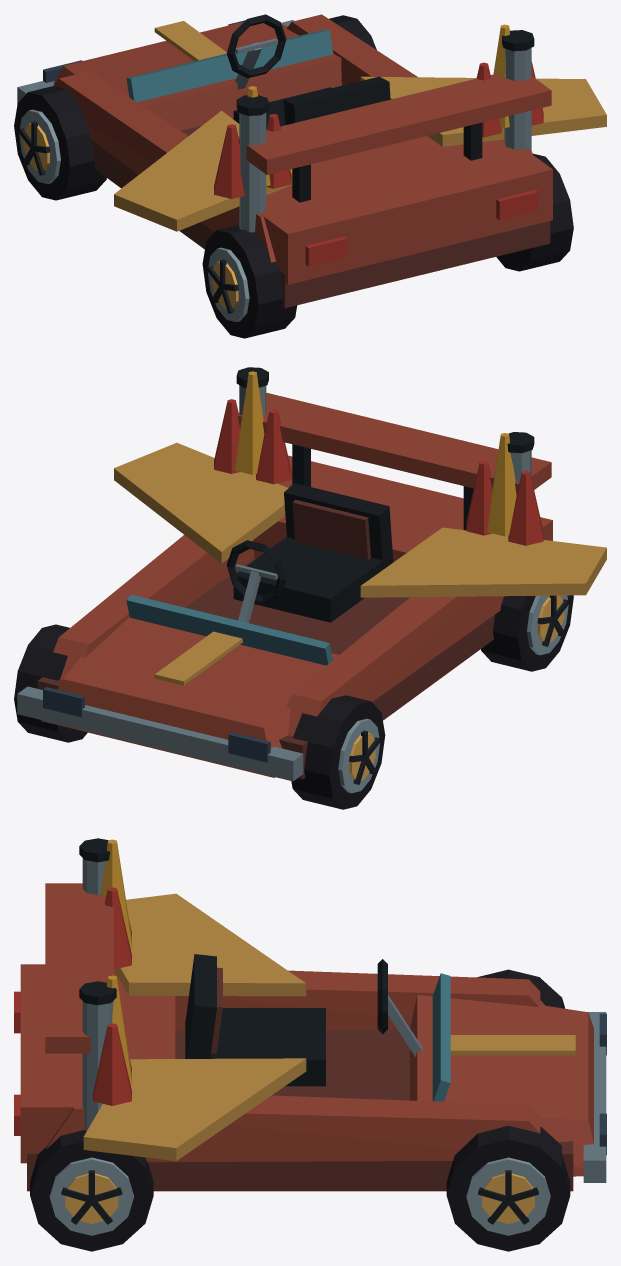
Rendered from kart.glb.
3 views of the same model, one above another, from view 1: azimuth 30°, elevation 25°; view 2: azimuth 150°, elevation 25°; view 3: azimuth 270°, elevation 25° (orthographic). The views are drawn at different scales.
Parts seen in each view (by area): view 1: identity-sports-car-sports-car-road-car-body, identity-sports-car-motif-wings, wheel-front-left, wheel-rear-left, identity-sports-car-motif-exhaust, identity-sports-car-driver-cockpit, identity-sports-car-motif-fire, wheel-rear-right, wheel-front-right; view 2: identity-sports-car-sports-car-road-car-body, identity-sports-car-motif-wings, identity-sports-car-driver-cockpit, identity-sports-car-motif-fire, wheel-front-left, wheel-rear-left, wheel-front-right, identity-sports-car-motif-exhaust; view 3: identity-sports-car-sports-car-road-car-body, identity-sports-car-motif-wings, wheel-front-right, identity-sports-car-driver-cockpit, wheel-rear-right, identity-sports-car-motif-fire, identity-sports-car-motif-exhaust, wheel-front-left.
Part boxes in pixels (x1,y1,x2,y2): identity-sports-car-sports-car-road-car-body: (17, 14, 552, 308); identity-sports-car-motif-wings: (114, 76, 606, 231); wheel-front-left: (14, 86, 106, 200); wheel-rear-left: (202, 225, 297, 338); identity-sports-car-motif-exhaust: (236, 30, 534, 232); identity-sports-car-driver-cockpit: (226, 14, 390, 128); identity-sports-car-motif-fire: (214, 24, 543, 198); wheel-rear-right: (496, 153, 573, 271); wheel-front-right: (329, 15, 376, 49); identity-sports-car-sports-car-road-car-body: (17, 393, 552, 781); identity-sports-car-motif-wings: (114, 442, 606, 597); identity-sports-car-driver-cockpit: (226, 483, 393, 623); identity-sports-car-motif-fire: (214, 371, 543, 545); wheel-front-left: (291, 695, 385, 809); wheel-rear-left: (481, 595, 573, 671); wheel-front-right: (14, 624, 87, 742); identity-sports-car-motif-exhaust: (236, 367, 534, 482); identity-sports-car-sports-car-road-car-body: (14, 883, 606, 1191); identity-sports-car-motif-wings: (83, 893, 306, 1161); wheel-front-right: (446, 1125, 570, 1251); identity-sports-car-driver-cockpit: (185, 954, 422, 1086); wheel-rear-right: (30, 1130, 153, 1251); identity-sports-car-motif-fire: (93, 839, 131, 1105); identity-sports-car-motif-exhaust: (79, 838, 116, 1131); wheel-front-left: (477, 969, 565, 1008).
Size of the model in its own units: 2.92 by 1.38 by 2.88.
